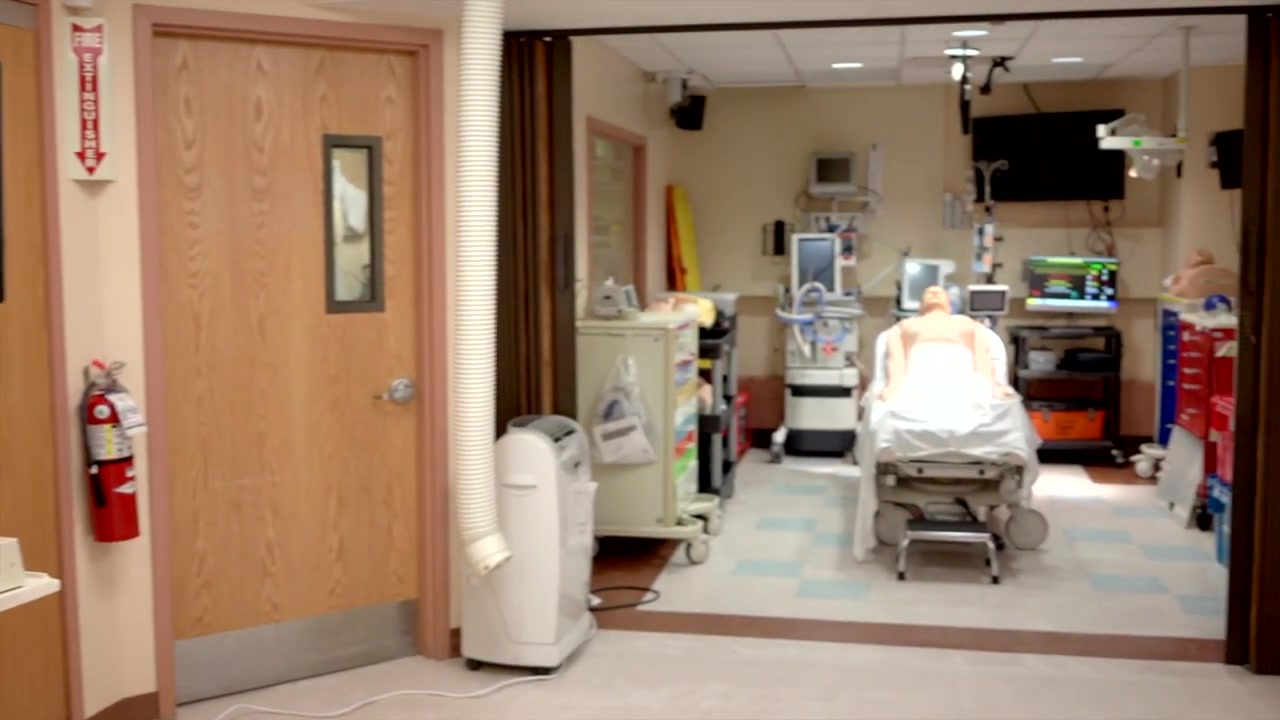TV: (971, 108, 1127, 202), (1214, 128, 1245, 190)
bedside_monitor: (1022, 255, 1122, 312), (902, 259, 944, 315), (808, 149, 857, 196), (965, 285, 1009, 316)
breathing_tube: (775, 283, 845, 359)
curtain: (1224, 13, 1280, 674), (497, 35, 577, 437)
door_handle: (370, 380, 417, 409)
handle: (1182, 383, 1203, 390), (1184, 351, 1202, 358), (1182, 368, 1200, 374), (682, 424, 695, 432), (686, 484, 697, 493), (681, 355, 695, 362), (684, 441, 695, 449), (1167, 330, 1178, 336), (1166, 380, 1177, 386), (1187, 336, 1200, 341), (1168, 316, 1178, 322), (1168, 344, 1178, 350), (1166, 359, 1177, 364)
iv_pole: (970, 156, 1009, 224)
medical_drawer: (575, 310, 720, 541), (1151, 292, 1236, 471), (1174, 307, 1238, 498)
operating_bed: (859, 309, 1050, 551)
ventilator: (783, 232, 860, 452)
